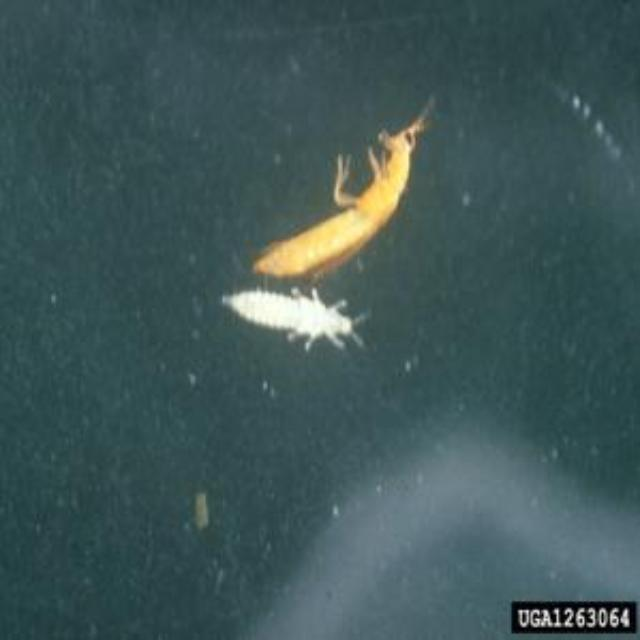melon thrips: (216, 93, 448, 295), (212, 281, 368, 393)
